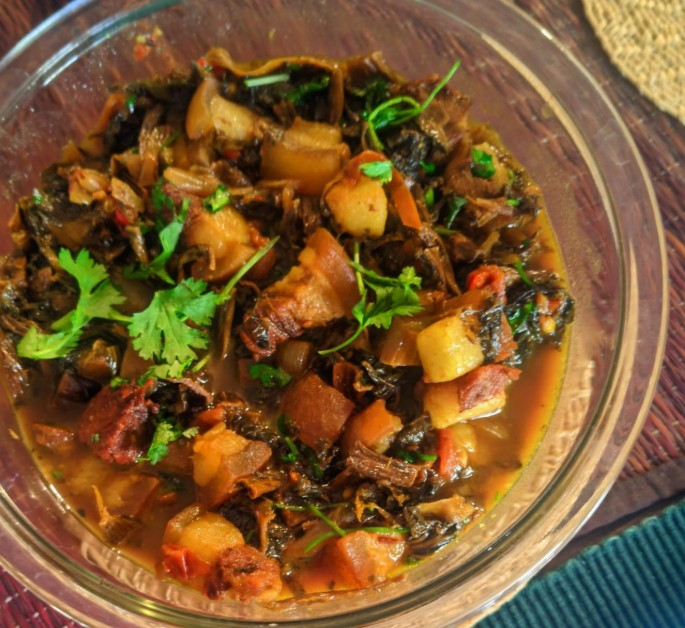gundruk: (9, 54, 524, 581)
